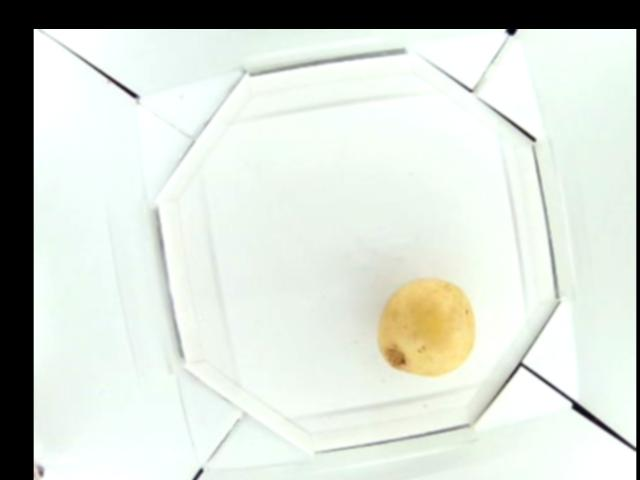Potato: (378, 277, 477, 377)
